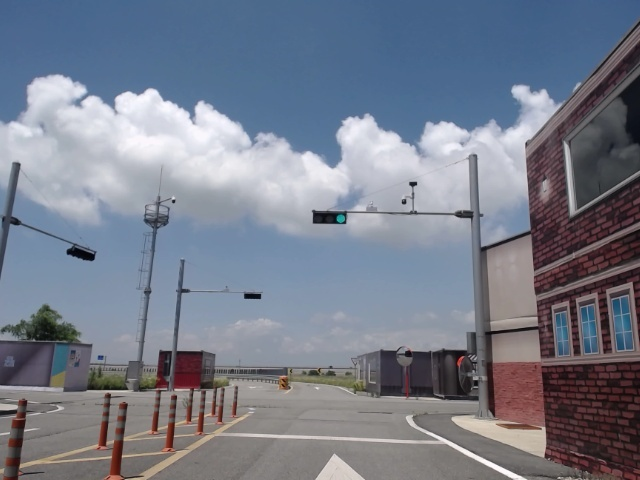green_3: (314, 211, 345, 223)
